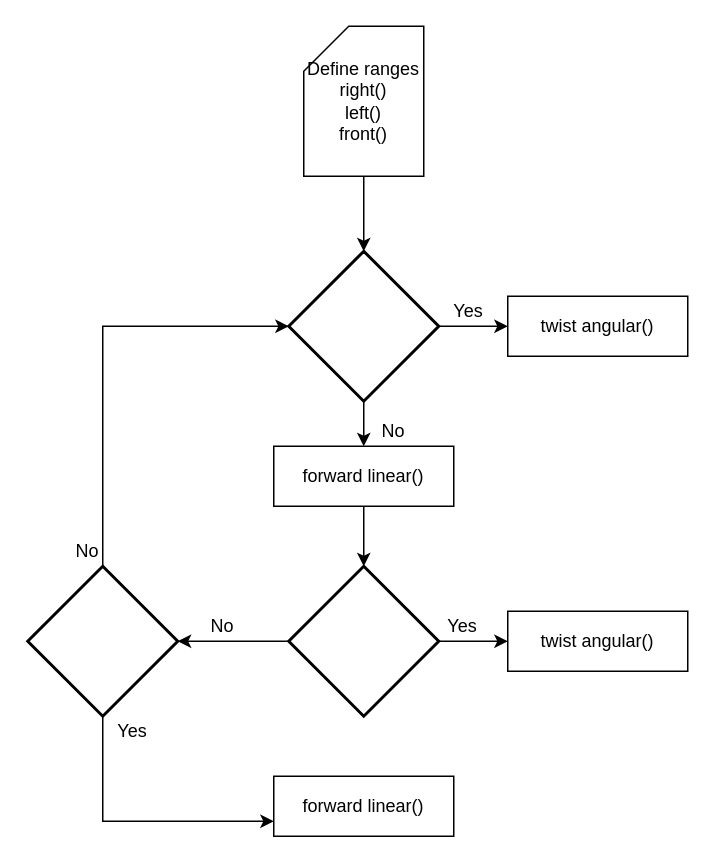
Image size: 714x863. Some labels were removed from this diagram. Each missing label, with the box of its shape:
Check front()<rand: (286, 249, 440, 402)
Check left() and front < rand: (286, 564, 440, 717)
Check right() and front < rand: (26, 564, 178, 717)
